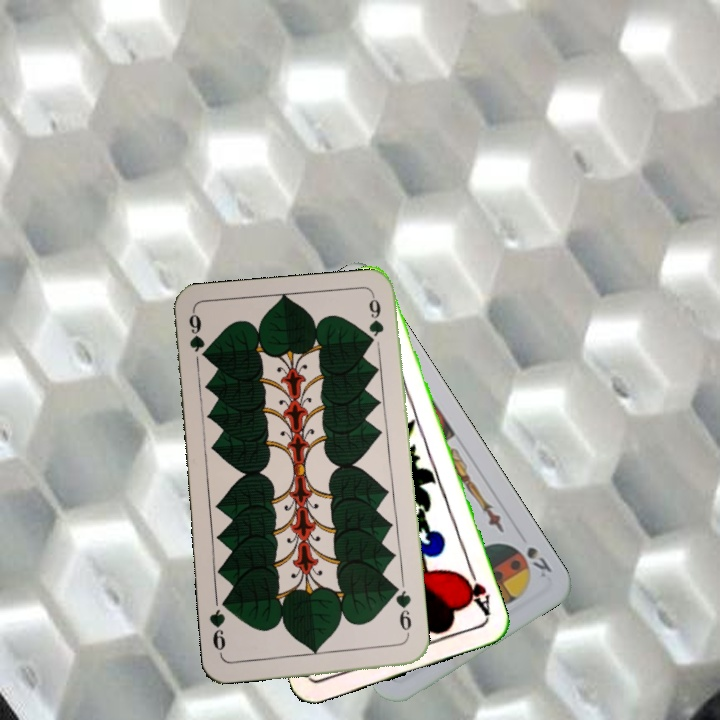G9: (184, 309, 211, 363), (390, 583, 414, 641)
HA: (457, 562, 493, 620)
SK: (522, 542, 555, 581)
